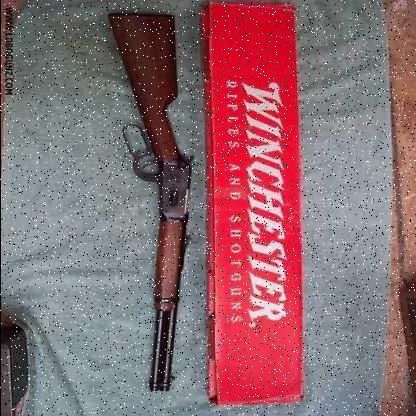rifle: (87, 12, 213, 405)
